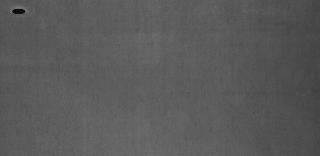punching hole: (9, 8, 29, 17)
